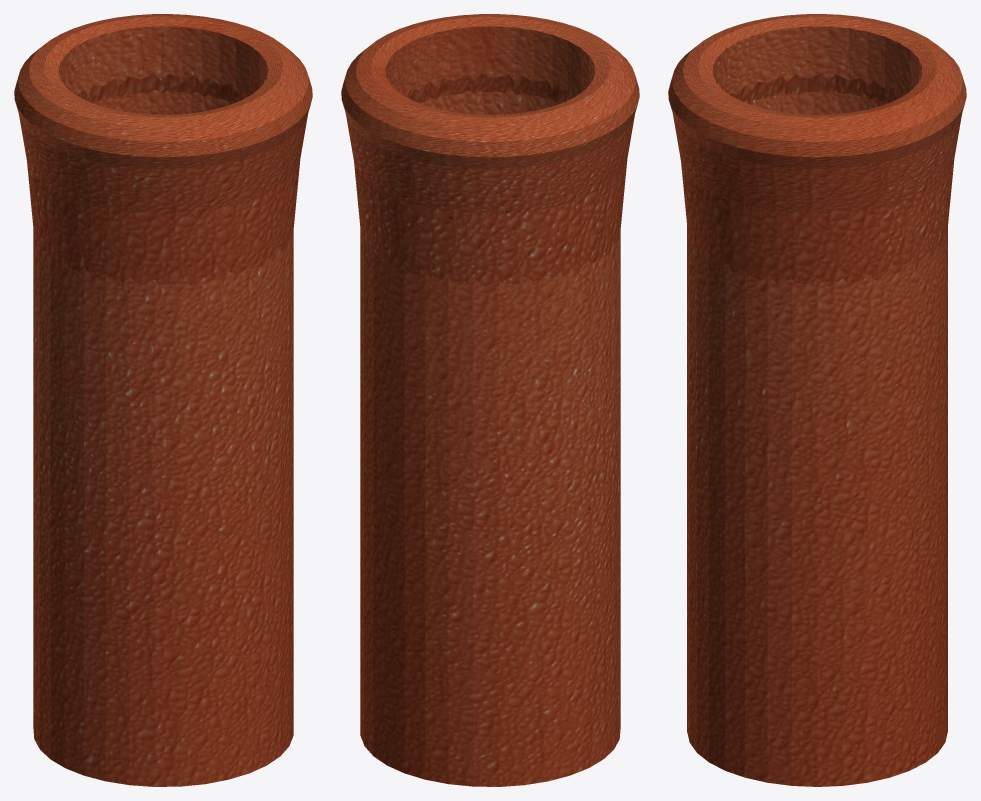
Rendered from 10inchTube.fbx.
3 renders of one model, left to right at view 1: azimuth 30°, elevation 25°; view 2: azimuth 150°, elevation 25°; view 3: azimuth 270°, elevation 25°, orthographic.
Visible parts, largest first — view 1: Cylinder.001, Torus; view 2: Cylinder.001, Torus; view 3: Cylinder.001, Torus.
Boxes of the visible parts, bbox=[...] form: Cylinder.001: bbox=[33, 90, 293, 786]; Torus: bbox=[14, 14, 312, 286]; Cylinder.001: bbox=[360, 90, 620, 786]; Torus: bbox=[341, 14, 639, 286]; Cylinder.001: bbox=[687, 89, 947, 786]; Torus: bbox=[668, 14, 966, 286].
Bounding box in the file's own units: 0.4121 × 1.01 × 0.4121.
Materials: 1 (1 with a texture image).
